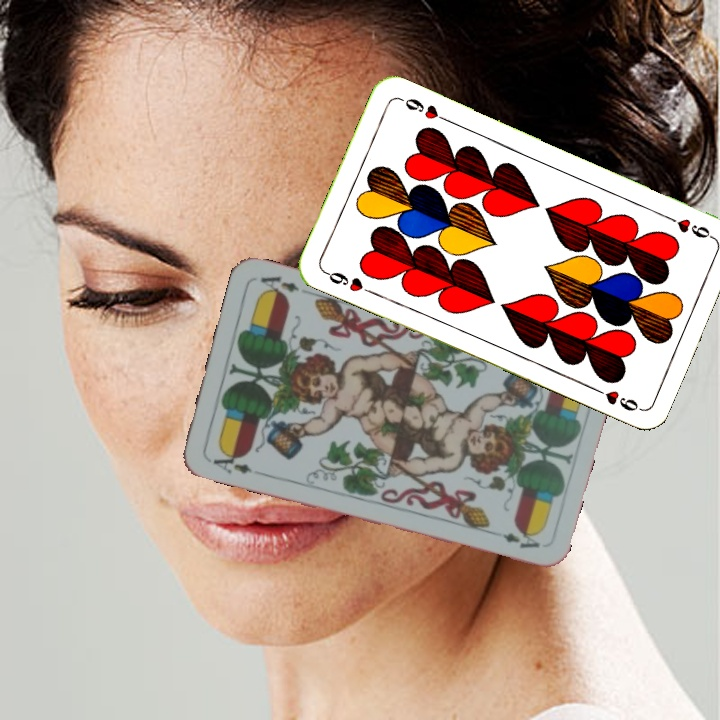EA: (209, 446, 263, 477)
H9: (660, 210, 716, 242), (320, 267, 376, 297)
